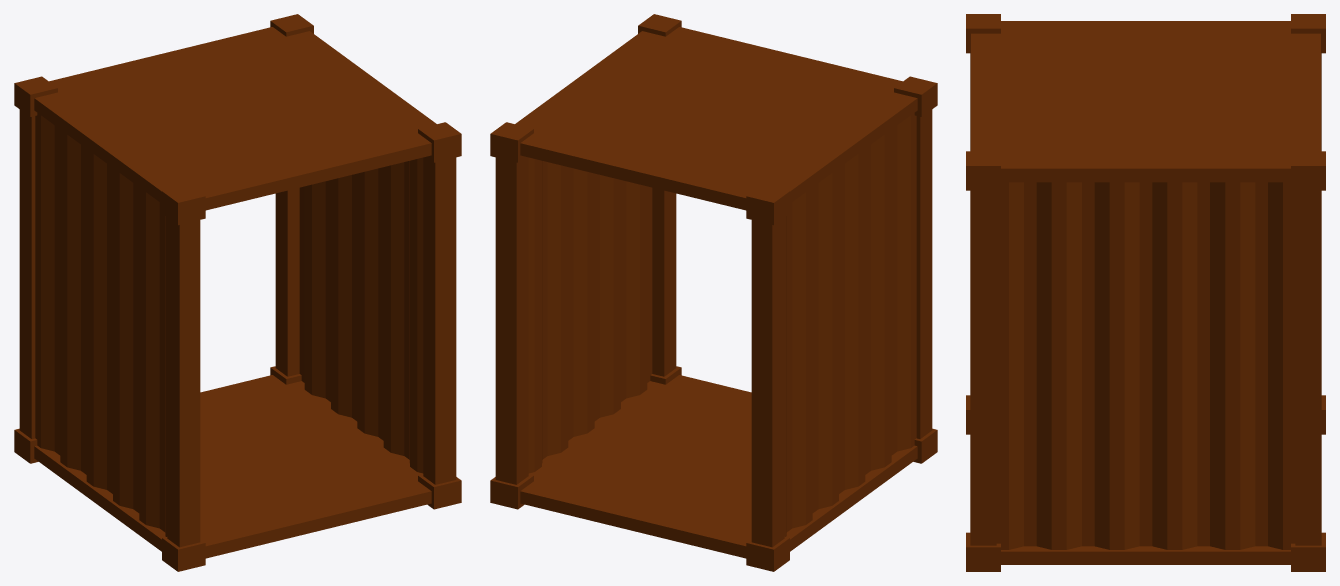
Rendered from LP_PostApoc_2x2_ShippingContainer_Open.fbx.
3 renders of one model, left to right at view 1: azimuth 30°, elevation 25°; view 2: azimuth 150°, elevation 25°; view 3: azimuth 270°, elevation 25°, orthographic. The views are drawn at different scales.
Parts seen in each view (by area): view 1: 2x2_ShippingContainer_Open; view 2: 2x2_ShippingContainer_Open; view 3: 2x2_ShippingContainer_Open.
Part boxes in pixels (x1,y1,x2,y2): 2x2_ShippingContainer_Open: (14, 14, 461, 571); 2x2_ShippingContainer_Open: (490, 14, 937, 571); 2x2_ShippingContainer_Open: (966, 14, 1325, 571).
Bounding box in the file's own units: 206 × 256 × 206.
